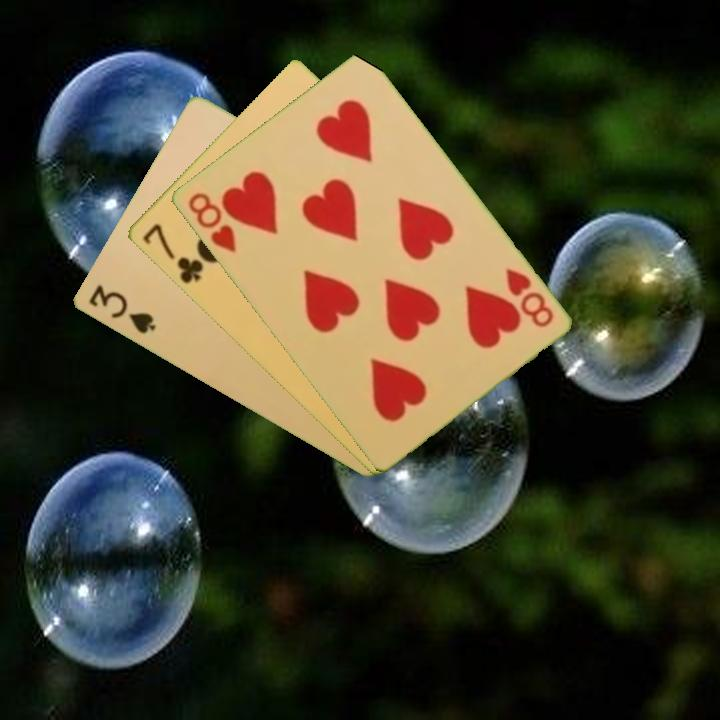3s: (84, 281, 158, 337)
7c: (138, 219, 206, 287)
8h: (183, 189, 239, 256), (501, 264, 556, 331)
